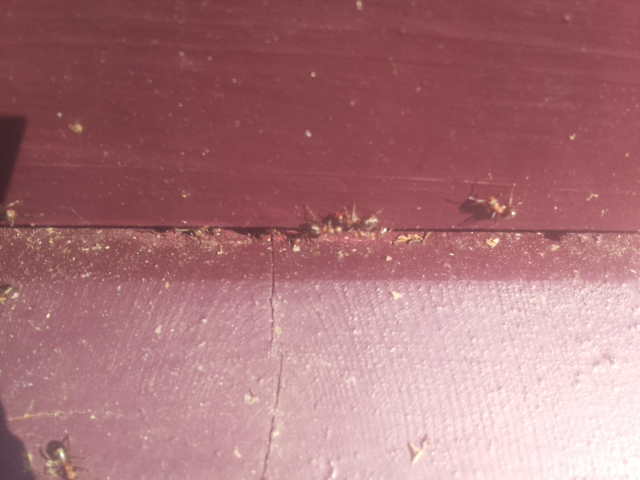ant: (38, 429, 86, 480), (468, 185, 518, 225)
